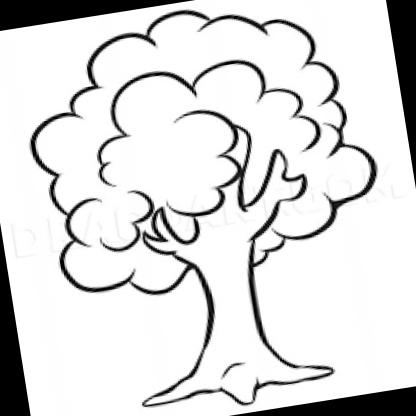branch_sharp: (122, 107, 316, 261)
crown_cloud: (13, 0, 394, 309)
root_only: (128, 342, 341, 416)
trunk_straight: (182, 274, 284, 360)
